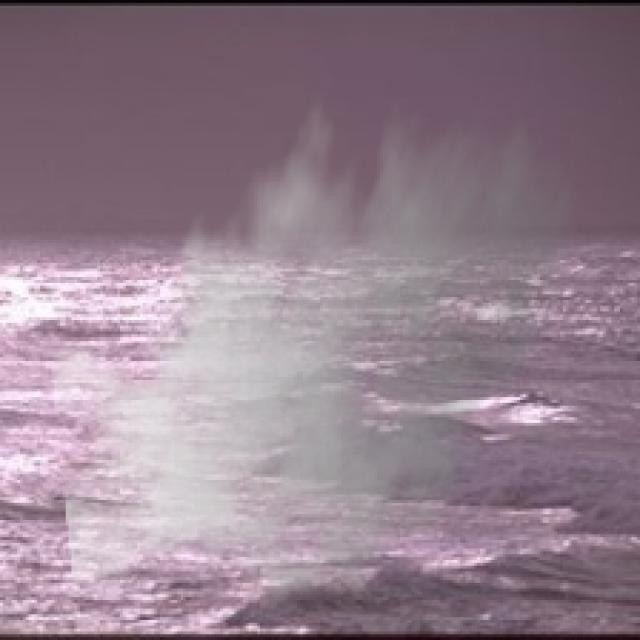smoke: (48, 63, 583, 631)
